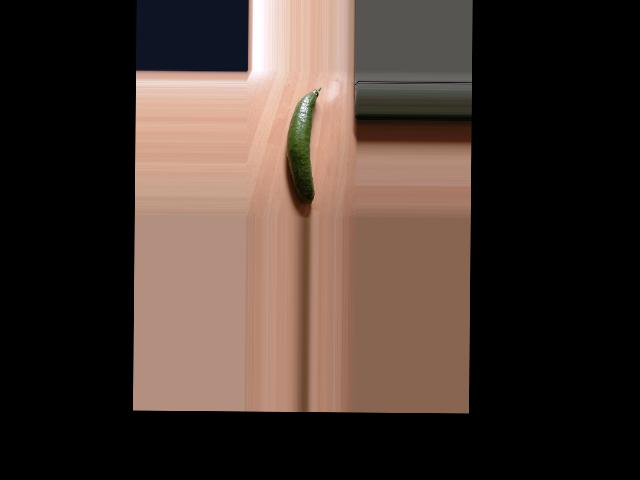cucumber: (285, 86, 321, 205)
